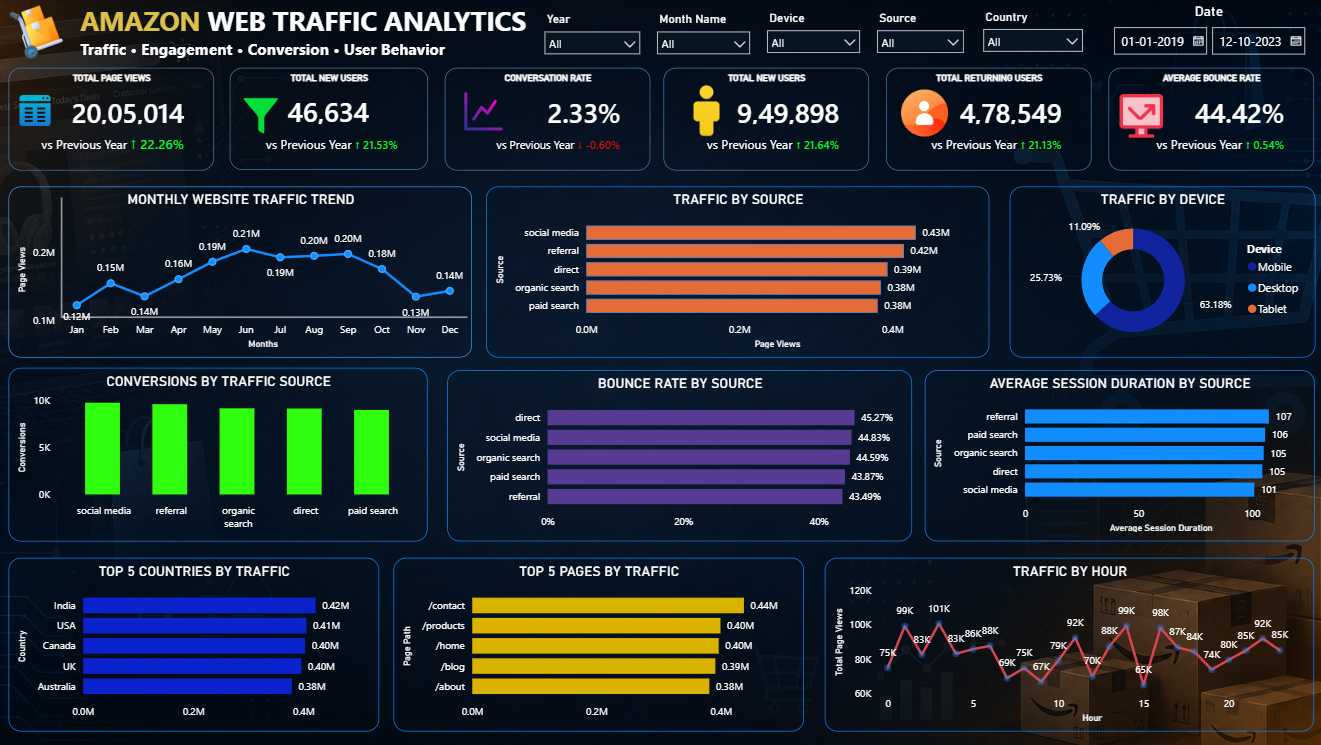

Layout of this report page (visuals, bound fields, positions):
{"tool":"powerbi","page":{"name":"Page 1","canvas":[1600,900],"ordinal":0},"visuals":[{"type":"textbox","box":[96,0,560,80],"z":0},{"type":"image","box":[16,0,64,80],"z":1000},{"type":"image","box":[15.5,114.8,64.5,40],"z":2000},{"type":"slicer","fields":{"Values":["Calendar.Year"]},"box":[652.1,10.8,135.7,60.1],"z":3000},{"type":"slicer","fields":{"Values":["Calendar.Month Name"]},"box":[787.7,10.8,132.6,60.1],"z":4000},{"type":"slicer","fields":{"Values":["amazon_web_traffic_cleaned.Device"]},"box":[920.3,9.2,132.6,60.1],"z":5000},{"type":"slicer","fields":{"Values":["amazon_web_traffic_cleaned.Source"]},"box":[1052.9,9.2,124.9,60.1],"z":6000},{"type":"slicer","fields":{"Values":["amazon_web_traffic_cleaned.Country"]},"box":[1180.8,7.7,140.3,66.3],"z":7000},{"type":"slicer","title":"Date","fields":{"Values":["Calendar.Date"]},"box":[1336.5,4.6,254.8,70.9],"z":8000},{"type":"image","box":[297.5,117.2,44.7,46.2],"z":9000},{"type":"cardVisual","title":"CONVERSATION RATE","fields":{"Data":["Measures..Conversion Rate"]},"box":[541.1,83.2,247.7,123.8],"z":10000},{"type":"image","box":[554.7,107.1,67.1,56.8],"z":11000},{"type":"cardVisual","title":"TOTAL NEW USERS","fields":{"Data":["Measures..Total New Users"]},"box":[804.9,82.6,247.7,123.8],"z":12000},{"type":"image","box":[826.9,92.9,61.9,82.6],"z":13000},{"type":"cardVisual","title":"TOTAL RETURNING USERS","fields":{"Data":["Measures..Total Returning Users"]},"box":[1073.3,83.4,247.7,123.8],"z":14000},{"type":"cardVisual","title":"AVERAGE BOUNCE RATE","fields":{"Data":["Measures..Average Bounce Rate"]},"box":[1342,83.4,247.7,123.8],"z":15000},{"type":"cardVisual","title":"TOTAL PAGE VIEWS","fields":{"Data":["amazon_web_traffic_cleaned.Total Page Views"]},"box":[15.4,83.2,247.7,123.8],"z":16000},{"type":"cardVisual","title":"TOTAL NEW USERS","fields":{"Data":["Measures..Total Conversions"]},"box":[282.1,83.2,238.9,123.3],"z":17000},{"type":"image","box":[1091.4,100.2,57,75.5],"z":18000},{"type":"image","box":[1342.7,107.9,78.6,64.7],"z":19000},{"type":"lineChart","title":"MONTHLY WEBSITE TRAFFIC TREND","fields":{"Y":["amazon_web_traffic_cleaned.Total Page Views"],"Category":["Calendar.Month Name"]},"box":[15.4,226.6,559.6,206.6],"z":20000},{"type":"shape","box":[80.2,309.9,488.7,149.5],"z":21000},{"type":"shape","box":[12.3,240.5,134.1,144.9],"z":22000},{"type":"clusteredBarChart","title":"TRAFFIC BY SOURCE","fields":{"Y":["amazon_web_traffic_cleaned.Total Page Views"],"Category":["amazon_web_traffic_cleaned.Source"]},"box":[590.4,226.6,607.4,206.6],"z":22001},{"type":"donutChart","title":"TRAFFIC BY DEVICE","fields":{"Category":["amazon_web_traffic_cleaned.Device"],"Y":["amazon_web_traffic_cleaned.Total Page Views"]},"box":[1222.5,226.6,368.4,206.6],"z":22002},{"type":"clusteredColumnChart","title":"CONVERSIONS BY TRAFFIC SOURCE","fields":{"Category":["amazon_web_traffic_cleaned.Source"],"Y":["Measures..Total Conversions"]},"box":[15.4,445.5,505.6,209.7],"z":22003},{"type":"clusteredBarChart","title":"BOUNCE RATE BY SOURCE","fields":{"Category":["amazon_web_traffic_cleaned.Source"],"Y":["Measures..Average Bounce Rate"]},"box":[544.2,448.6,561.1,206.6],"z":22004},{"type":"barChart","title":"AVERAGE SESSION DURATION BY SOURCE","fields":{"Category":["amazon_web_traffic_cleaned.Source"],"Y":["Measures..Average Session Duration"]},"box":[1120.7,448.6,470.2,206.6],"z":22005},{"type":"barChart","title":"TOP 5 COUNTRIES BY TRAFFIC","fields":{"Category":["amazon_web_traffic_cleaned.Country"],"Y":["amazon_web_traffic_cleaned.Total Page Views"]},"box":[15.4,673.7,447.1,209.7],"z":22006},{"type":"barChart","title":"TOP 5 PAGES BY TRAFFIC","fields":{"Category":["amazon_web_traffic_cleaned.Page Path"],"Y":["amazon_web_traffic_cleaned.Total Page Views"]},"box":[479.4,673.7,494.8,209.7],"z":22007},{"type":"lineChart","title":"TRAFFIC BY HOUR","fields":{"Category":["amazon_web_traffic_cleaned.Hour"],"Y":["amazon_web_traffic_cleaned.Total Page Views"]},"box":[1000.5,673.7,590.4,209.7],"z":22008}]}

Visuals, with their boxes in screenshot pixels (x1, y1, x2, y2), scaled from the page's 1600x900 canvas onto the 1321x745 screenshot:
textbox: BBox(79, 0, 542, 66)
image: BBox(13, 0, 66, 66)
image: BBox(13, 95, 66, 128)
slicer - Calendar.Year: BBox(538, 9, 650, 59)
slicer - Calendar.Month Name: BBox(650, 9, 760, 59)
slicer - amazon_web_traffic_cleaned.Device: BBox(760, 8, 869, 57)
slicer - amazon_web_traffic_cleaned.Source: BBox(869, 8, 972, 57)
slicer - amazon_web_traffic_cleaned.Country: BBox(975, 6, 1091, 61)
"Date" slicer: BBox(1103, 4, 1314, 62)
image: BBox(246, 97, 283, 135)
"CONVERSATION RATE" cardVisual: BBox(447, 69, 651, 171)
image: BBox(458, 89, 513, 136)
"TOTAL NEW USERS" cardVisual: BBox(665, 68, 869, 171)
image: BBox(683, 77, 734, 145)
"TOTAL RETURNING USERS" cardVisual: BBox(886, 69, 1091, 172)
"AVERAGE BOUNCE RATE" cardVisual: BBox(1108, 69, 1312, 172)
"TOTAL PAGE VIEWS" cardVisual: BBox(13, 69, 217, 171)
"TOTAL NEW USERS" cardVisual: BBox(233, 69, 430, 171)
image: BBox(901, 83, 948, 145)
image: BBox(1109, 89, 1173, 143)
"MONTHLY WEBSITE TRAFFIC TREND" lineChart: BBox(13, 188, 475, 359)
shape: BBox(66, 257, 470, 380)
shape: BBox(10, 199, 121, 319)
"TRAFFIC BY SOURCE" clusteredBarChart: BBox(487, 188, 989, 359)
"TRAFFIC BY DEVICE" donutChart: BBox(1009, 188, 1313, 359)
"CONVERSIONS BY TRAFFIC SOURCE" clusteredColumnChart: BBox(13, 369, 430, 542)
"BOUNCE RATE BY SOURCE" clusteredBarChart: BBox(449, 371, 913, 542)
"AVERAGE SESSION DURATION BY SOURCE" barChart: BBox(925, 371, 1313, 542)
"TOP 5 COUNTRIES BY TRAFFIC" barChart: BBox(13, 558, 382, 731)
"TOP 5 PAGES BY TRAFFIC" barChart: BBox(396, 558, 804, 731)
"TRAFFIC BY HOUR" lineChart: BBox(826, 558, 1313, 731)
